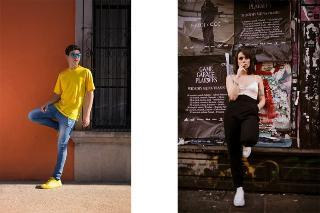person - v3 P: (29, 45, 94, 188), (224, 48, 265, 206)
